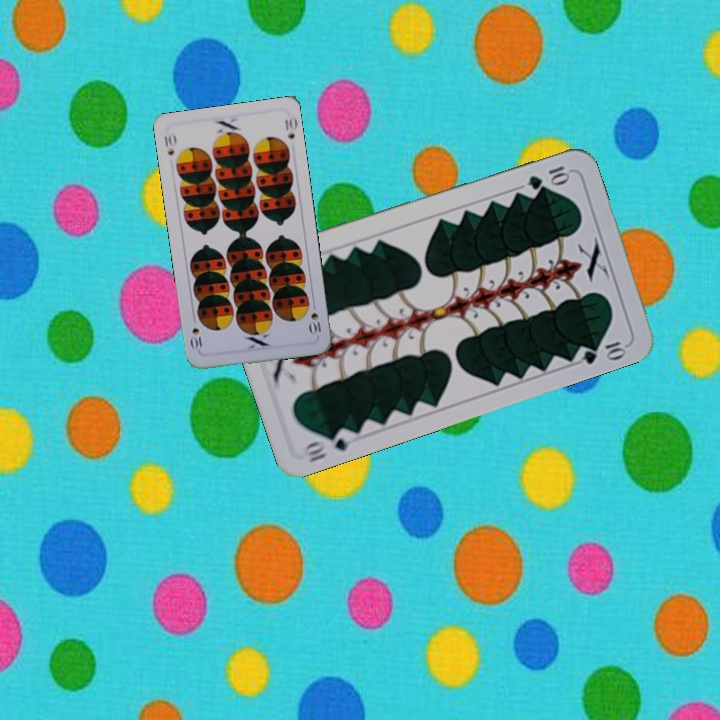G10: (298, 424, 354, 466), (524, 161, 573, 192)
S10: (305, 298, 325, 338), (160, 130, 179, 158)
